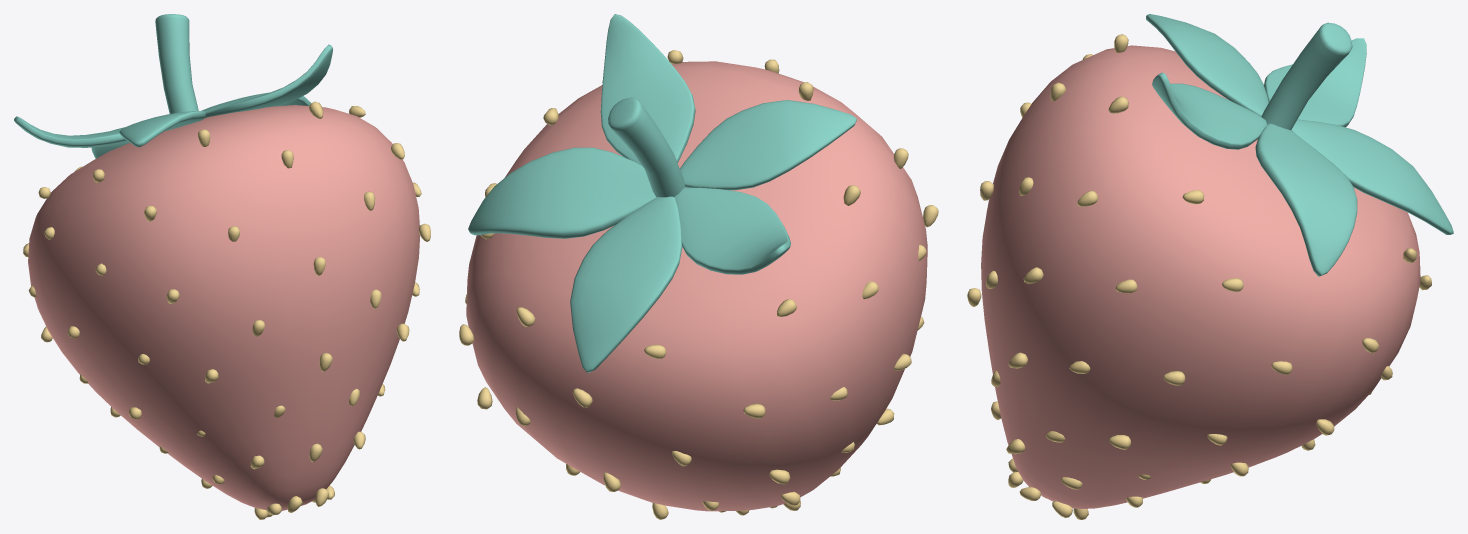
File: strawberry.glb
3 views of the same model, side by side, from view 1: azimuth 30°, elevation 25°; view 2: azimuth 150°, elevation 25°; view 3: azimuth 270°, elevation 25° (orthographic). The views are drawn at different scales.
Parts seen in each view (by area): view 1: strawberry, for cloner, leave (×2), rop, leave 4; view 2: strawberry, leave (×2), leave 3, leave 2, leave 4, for cloner, rop; view 3: strawberry, leave (×2), leave 3, for cloner, leave 2, rop, leave 4.
Part boxes in pixels (<box>): strawberry: <box>28,105,420,510</box>; for cloner: <box>23,101,430,519</box>; leave (×2): <box>119,44,332,147</box>; rop: <box>155,14,198,113</box>; leave 4: <box>14,116,127,147</box>; strawberry: <box>466,61,927,511</box>; leave (×2): <box>600,14,856,190</box>; leave 3: <box>468,147,656,238</box>; leave 2: <box>570,196,682,372</box>; leave 4: <box>674,187,790,274</box>; for cloner: <box>459,50,938,519</box>; rop: <box>608,97,685,197</box>; strawberry: <box>981,45,1420,509</box>; leave (×2): <box>1146,14,1268,149</box>; leave 3: <box>1255,123,1357,276</box>; for cloner: <box>967,34,1431,519</box>; leave 2: <box>1291,119,1453,234</box>; rop: <box>1261,22,1352,130</box>; leave 4: <box>1264,38,1366,127</box>.
Bounding box in the file's own units: 1.71 × 2.03 × 1.83.
